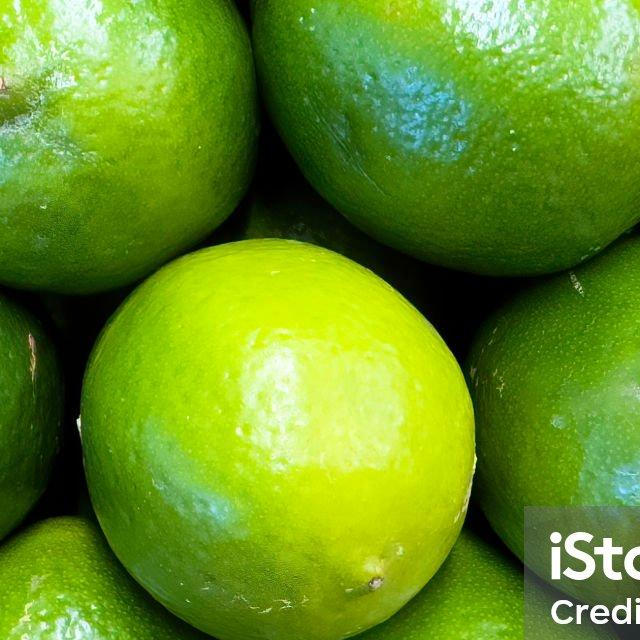lime: (70, 238, 478, 640)
